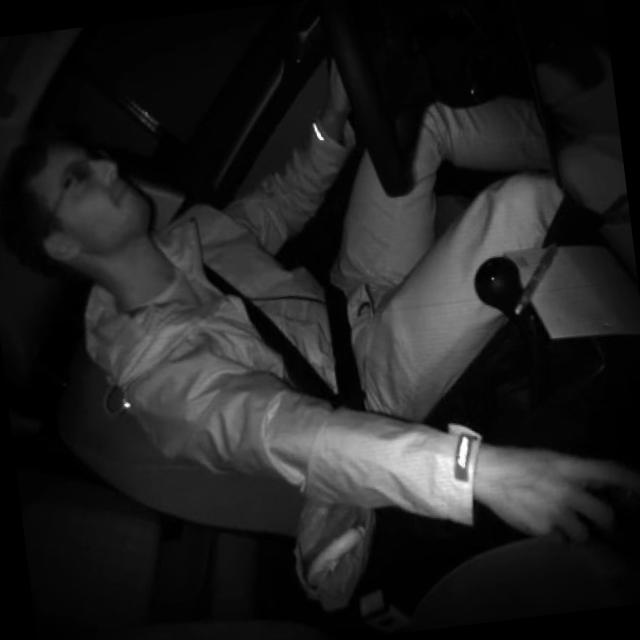pen: (503, 237, 569, 317)
